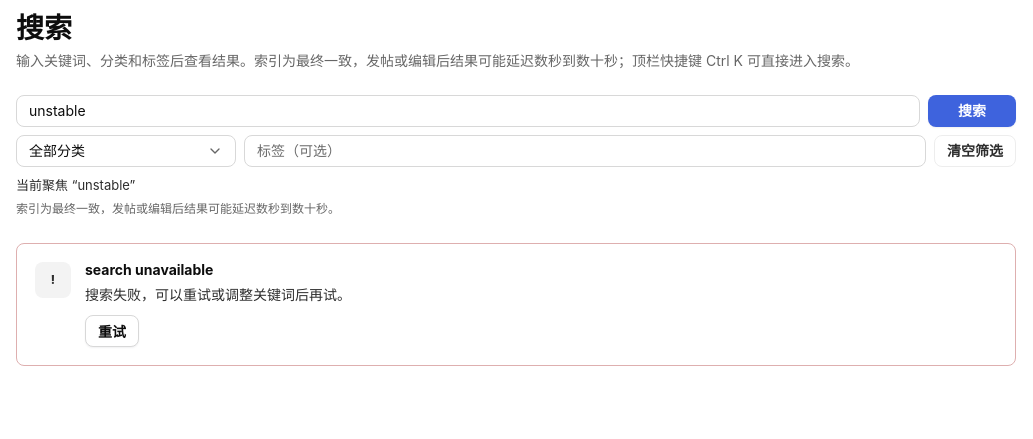
Test: SearchView › shows a retryable error state when the first search load fails
Click the button "重试": (112, 331) x1=85 y1=315 x2=139 y2=347
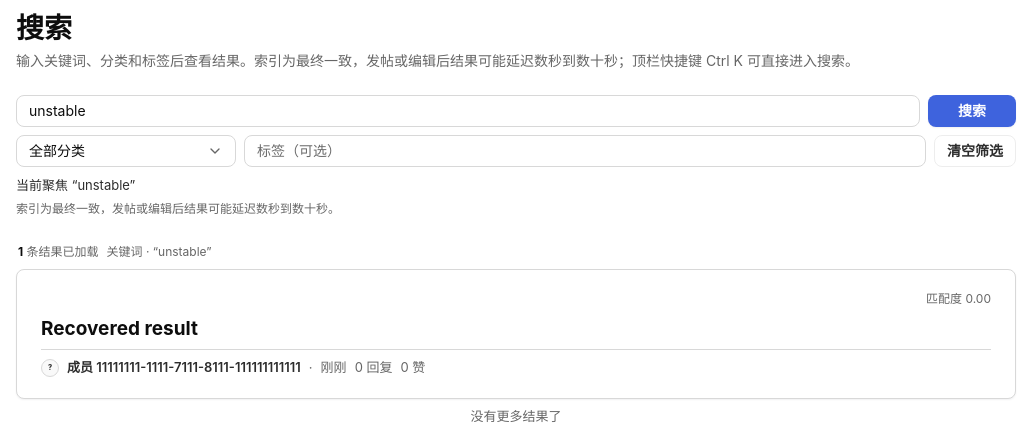
Check: the text "Recovered result" is shown, box x1=41 y1=317 x2=198 y2=340
Check: the text "search unavailable" is gone
